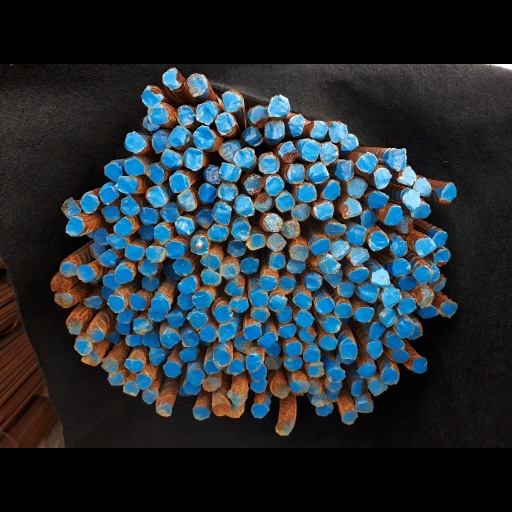dipstick: (193, 126, 214, 150), (268, 95, 290, 117), (278, 141, 299, 164), (195, 101, 215, 125), (142, 85, 163, 107), (187, 73, 206, 96), (184, 148, 203, 171), (147, 186, 167, 207), (169, 173, 190, 193), (124, 132, 146, 151), (216, 113, 235, 135), (222, 89, 241, 111), (162, 148, 182, 168), (218, 142, 238, 162), (309, 163, 329, 183), (356, 152, 376, 172), (231, 221, 251, 241), (148, 104, 169, 123), (168, 127, 189, 146), (220, 163, 241, 182), (346, 179, 367, 198), (236, 196, 255, 217), (263, 212, 282, 233), (414, 238, 435, 257), (213, 203, 231, 225), (388, 149, 406, 171), (120, 196, 139, 216), (145, 164, 164, 184), (264, 120, 284, 139), (265, 176, 284, 196), (314, 201, 334, 220), (342, 198, 362, 217), (266, 233, 286, 252), (320, 143, 338, 164), (302, 141, 320, 162), (258, 155, 279, 173), (373, 168, 391, 189), (324, 222, 346, 239), (244, 127, 263, 146), (321, 181, 340, 200), (350, 247, 369, 266), (347, 227, 366, 246), (245, 174, 263, 194), (321, 256, 341, 274), (331, 240, 349, 260), (368, 232, 388, 250), (163, 68, 180, 89), (177, 105, 194, 126), (178, 190, 195, 211), (288, 163, 305, 184), (255, 192, 272, 213), (358, 285, 379, 302), (160, 332, 182, 348), (125, 157, 144, 175), (65, 217, 84, 235), (115, 217, 133, 236), (74, 337, 92, 356), (190, 235, 208, 254), (218, 183, 237, 201), (297, 184, 316, 202), (384, 206, 402, 225), (152, 132, 169, 152), (137, 259, 157, 276), (187, 312, 207, 329), (234, 149, 254, 166), (337, 160, 354, 180), (368, 192, 388, 209), (311, 238, 331, 255), (116, 177, 137, 193), (143, 246, 164, 262), (62, 198, 80, 216), (140, 207, 158, 225), (160, 204, 178, 222), (199, 184, 217, 202), (329, 123, 347, 141), (278, 276, 296, 294), (305, 273, 323, 291), (397, 297, 415, 315), (392, 258, 410, 276), (99, 187, 118, 204), (81, 195, 98, 214), (175, 217, 194, 234), (310, 120, 327, 139), (275, 194, 294, 211), (291, 204, 310, 221), (398, 167, 415, 186), (403, 191, 420, 210), (268, 295, 287, 312), (295, 311, 314, 328), (382, 289, 401, 306), (125, 245, 145, 261), (397, 318, 413, 338), (290, 114, 305, 135), (103, 163, 121, 180), (115, 266, 133, 283), (165, 242, 183, 259), (178, 277, 196, 294), (215, 305, 232, 323), (195, 210, 213, 227), (249, 107, 267, 124), (283, 220, 300, 238), (414, 178, 431, 196), (316, 297, 334, 314), (372, 269, 389, 287), (204, 165, 220, 184), (219, 323, 235, 342), (227, 241, 246, 257), (239, 257, 258, 273), (368, 379, 387, 395), (439, 302, 458, 318), (51, 277, 71, 292), (53, 293, 73, 308), (200, 325, 217, 342), (416, 290, 433, 307), (101, 206, 119, 222), (154, 225, 170, 243), (102, 273, 120, 289), (193, 292, 211, 308), (340, 134, 358, 150), (361, 211, 377, 229), (290, 245, 308, 261), (324, 272, 342, 288), (391, 240, 407, 258), (414, 266, 432, 282), (201, 255, 220, 270), (251, 308, 270, 323), (293, 294, 312, 309), (412, 356, 427, 375), (355, 307, 374, 322), (380, 308, 395, 327), (397, 276, 416, 291), (441, 183, 456, 202), (201, 271, 221, 285), (349, 268, 369, 282), (59, 261, 76, 277), (77, 265, 94, 281), (107, 296, 124, 312), (133, 318, 150, 334), (129, 293, 146, 309), (148, 348, 164, 365), (182, 332, 199, 348), (214, 350, 231, 366), (259, 332, 276, 348), (398, 216, 414, 233), (268, 253, 285, 269), (226, 281, 243, 297), (251, 291, 268, 307), (323, 317, 340, 333), (434, 249, 450, 266), (247, 235, 265, 250), (220, 264, 238, 279), (306, 362, 324, 377), (320, 335, 338, 350), (367, 341, 382, 359), (386, 335, 404, 350), (229, 298, 248, 312), (227, 391, 246, 405), (209, 226, 228, 240), (287, 260, 306, 274), (326, 368, 345, 382), (106, 235, 126, 248), (168, 312, 184, 328), (260, 275, 276, 291), (338, 281, 354, 297), (67, 317, 82, 334), (142, 276, 159, 291), (174, 259, 191, 274), (142, 333, 159, 348), (141, 389, 158, 404), (163, 362, 180, 377), (180, 347, 197, 362), (234, 337, 251, 352), (244, 325, 261, 340), (284, 341, 301, 356), (381, 369, 398, 384), (369, 323, 384, 340), (94, 228, 108, 246), (192, 406, 210, 420), (251, 404, 269, 418), (278, 324, 296, 338), (284, 357, 302, 371), (357, 363, 375, 377), (151, 298, 170, 311), (202, 377, 221, 390), (411, 205, 430, 218), (290, 379, 309, 392), (391, 350, 410, 363), (99, 250, 115, 265), (136, 374, 152, 389), (351, 380, 366, 396), (432, 231, 447, 247), (116, 308, 133, 322), (163, 266, 180, 280), (245, 354, 259, 371), (277, 306, 291, 323), (299, 328, 316, 342), (303, 349, 320, 363), (83, 295, 101, 308), (272, 385, 290, 398), (139, 225, 154, 240), (177, 295, 192, 310), (251, 365, 266, 380), (102, 358, 118, 372), (123, 382, 139, 396), (228, 360, 244, 374), (341, 344, 357, 358), (250, 380, 267, 393), (265, 356, 282, 369), (311, 393, 328, 406), (335, 304, 352, 317), (125, 359, 143, 371), (81, 353, 99, 365), (144, 116, 158, 131), (189, 370, 204, 384), (419, 307, 438, 318), (87, 329, 103, 342), (156, 403, 172, 416), (341, 411, 357, 424), (204, 361, 221, 373), (212, 403, 229, 415), (434, 275, 446, 292), (265, 343, 280, 356), (184, 382, 200, 394), (125, 335, 142, 346), (274, 424, 291, 435), (356, 402, 373, 413), (90, 244, 104, 257), (105, 330, 119, 343), (229, 404, 243, 417), (308, 381, 322, 394), (148, 311, 166, 321), (108, 374, 124, 385), (316, 405, 332, 416), (116, 323, 130, 335), (413, 322, 422, 339), (327, 390, 339, 402), (336, 355, 352, 364), (101, 286, 111, 300), (327, 382, 342, 391), (431, 266, 439, 282)
